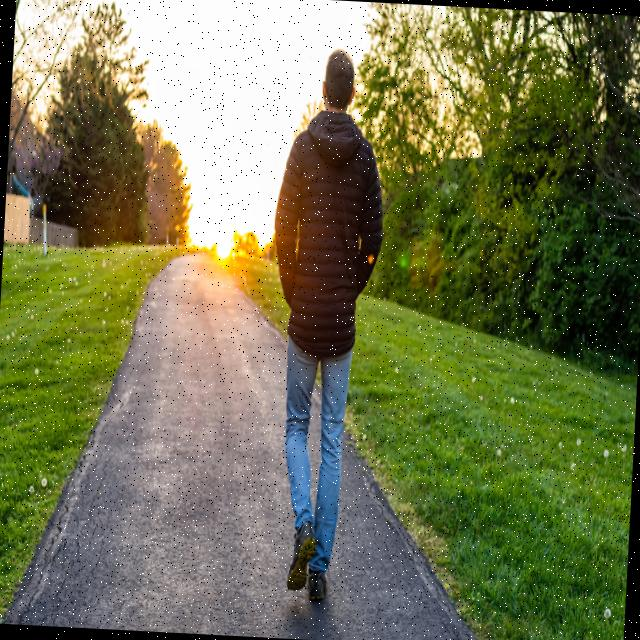Person: (256, 46, 393, 602)
